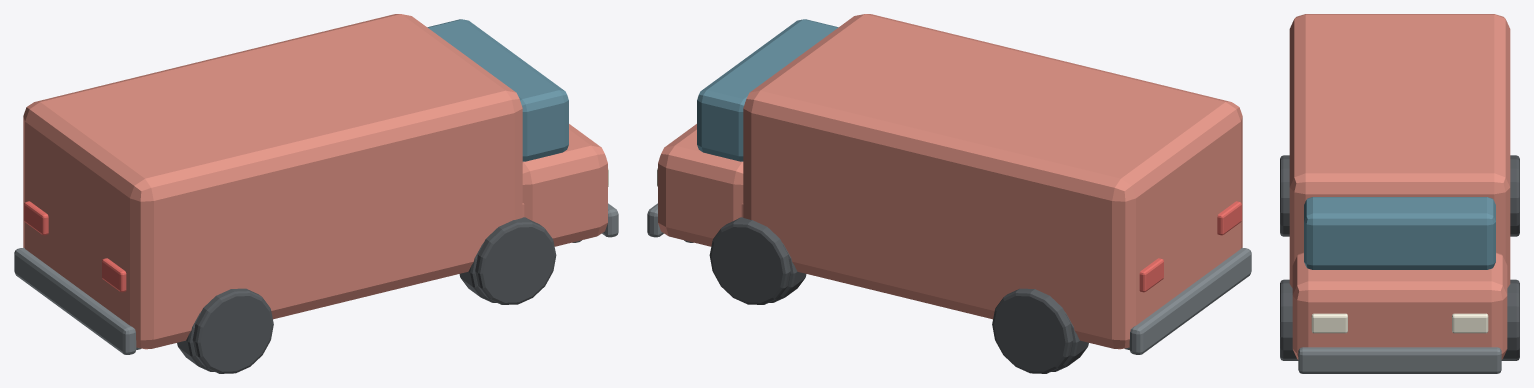
File: town-vehicles.glb
3 views of the same model, side by side, from view 1: azimuth 30°, elevation 25°; view 2: azimuth 150°, elevation 25°; view 3: azimuth 270°, elevation 25° (orthographic). The views are drawn at different scales.
Parts seen in each view (by area): view 1: Van body, Van nose, Van windscreen, Wheel.004, Wheel.006, Van bumper.001, Taillamp.003, Taillamp.002; view 2: Van body, Van nose, Van windscreen, Wheel.005, Wheel.007, Van bumper.001, Taillamp.002, Taillamp.003; view 3: Van body, Van nose, Van windscreen, Van bumper, Wheel.004, Wheel.005, Wheel.006, Wheel.007, Headlamp.002, Headlamp.003.
Part boxes in pixels (x1,y1,x2,y2): Van body: (23,14,522,349); Van nose: (522,124,607,246); Van windscreen: (427,19,568,161); Wheel.004: (475,217,556,304); Wheel.006: (192,288,273,373); Van bumper.001: (14,248,136,354); Taillamp.003: (24,201,48,235); Taillamp.002: (102,258,126,292); Van body: (743,14,1242,349); Van nose: (658,124,743,246); Van windscreen: (697,19,838,161); Wheel.005: (709,217,790,304); Wheel.007: (992,288,1073,373); Van bumper.001: (1129,248,1251,354); Taillamp.002: (1217,201,1241,235); Taillamp.003: (1139,258,1163,292); Van body: (1289,14,1510,287); Van nose: (1292,252,1507,359); Van windscreen: (1304,197,1495,269); Van bumper: (1298,347,1501,373); Wheel.004: (1280,279,1298,360); Wheel.005: (1501,279,1519,360); Wheel.006: (1280,155,1289,236); Wheel.007: (1510,155,1519,236); Headlamp.002: (1311,313,1347,333); Headlamp.003: (1452,313,1488,333).
Bounding box in the file's own units: 4.56 × 1.8 × 2.12.
